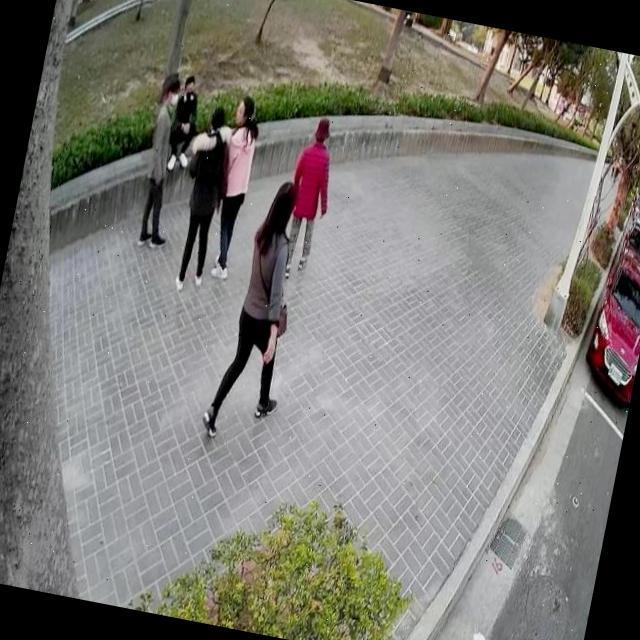person: (196, 167, 323, 452), (159, 97, 243, 298), (200, 86, 270, 284), (271, 107, 347, 288), (128, 69, 198, 256), (160, 70, 208, 176), (607, 153, 620, 181), (610, 157, 622, 185)
